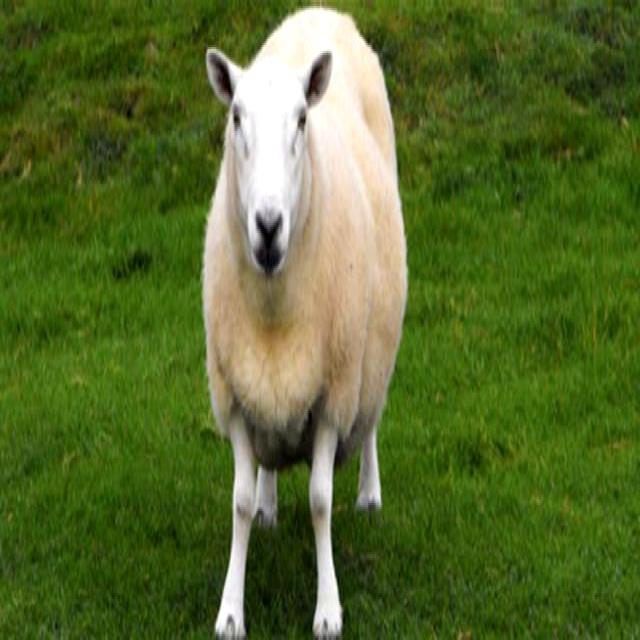sheep: (201, 7, 405, 640)
